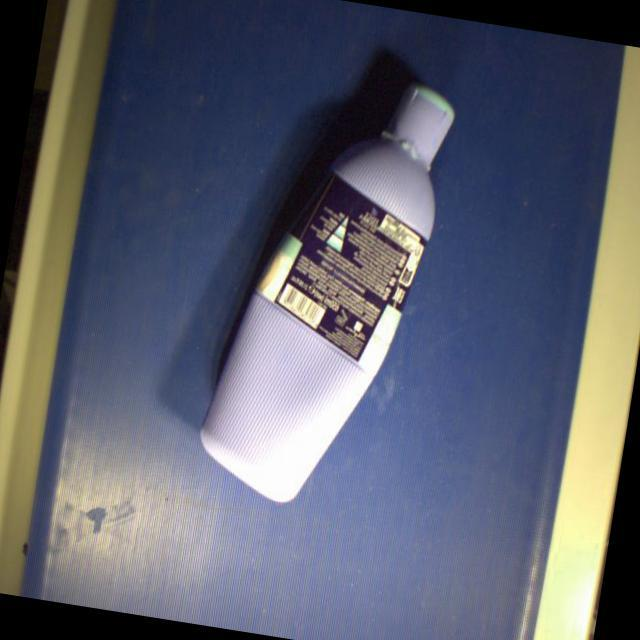HDPE Plastic: (194, 79, 462, 507)
